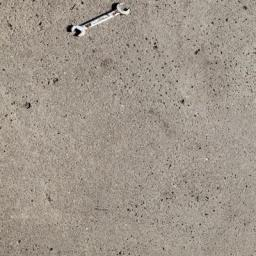FOD: (67, 2, 135, 39)
